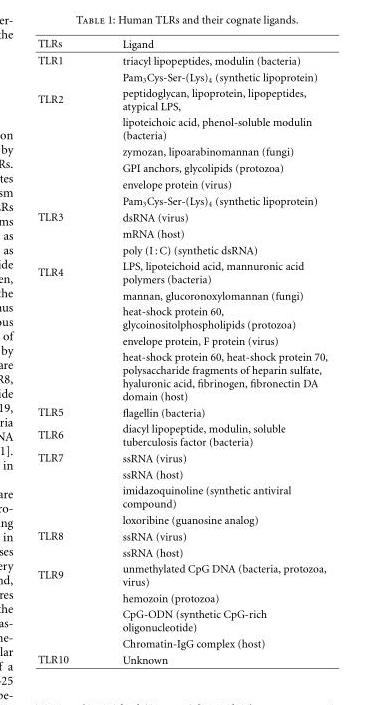table: (37, 37, 327, 665)
table column: (92, 37, 327, 665), (37, 37, 92, 665)
table column header: (37, 37, 327, 51)
table row: (37, 348, 327, 404), (37, 113, 327, 143), (37, 257, 327, 287), (37, 605, 327, 635), (37, 303, 327, 332), (37, 420, 327, 449), (37, 482, 327, 511), (37, 560, 327, 589), (37, 85, 327, 113), (37, 51, 327, 68), (37, 68, 327, 85), (37, 159, 327, 176), (37, 208, 327, 225), (37, 449, 327, 466), (37, 527, 327, 544), (37, 143, 327, 159), (37, 176, 327, 192), (37, 192, 327, 208), (37, 225, 327, 241), (37, 241, 327, 257), (37, 287, 327, 303), (37, 332, 327, 348), (37, 404, 327, 420), (37, 466, 327, 482), (37, 511, 327, 527), (37, 544, 327, 560), (37, 589, 327, 605), (37, 635, 327, 651), (37, 37, 327, 51), (37, 651, 327, 665)
table spanning cell: (37, 257, 92, 404), (37, 85, 92, 208), (37, 560, 92, 651), (37, 449, 92, 527), (37, 208, 92, 257), (37, 51, 92, 85), (37, 527, 92, 560)
